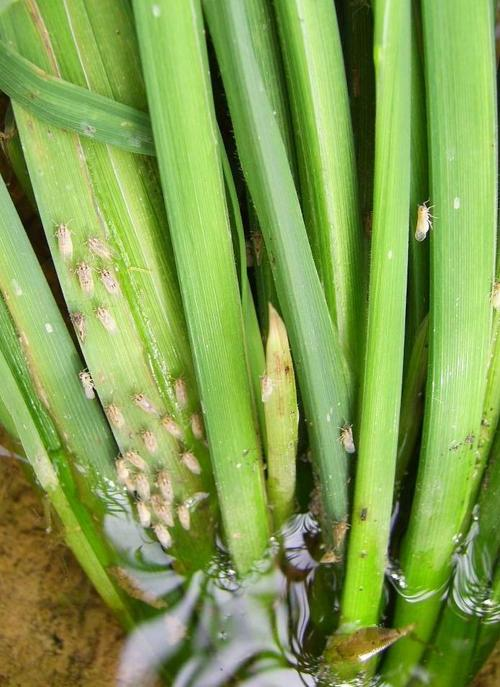Delphacidae: (413, 195, 439, 243), (48, 218, 77, 256), (83, 233, 117, 265), (96, 264, 123, 297), (70, 259, 94, 296), (168, 372, 190, 408), (256, 369, 280, 402), (337, 415, 357, 453), (77, 367, 99, 400), (128, 389, 157, 414), (92, 302, 116, 332), (178, 444, 200, 475), (68, 309, 88, 343), (101, 399, 125, 427), (160, 415, 183, 441), (152, 523, 174, 550), (156, 468, 174, 501), (133, 473, 152, 500), (125, 448, 148, 470), (155, 502, 175, 526), (185, 490, 210, 509), (135, 501, 153, 526), (139, 427, 157, 452), (175, 503, 191, 531), (115, 453, 130, 481), (190, 409, 204, 439)
